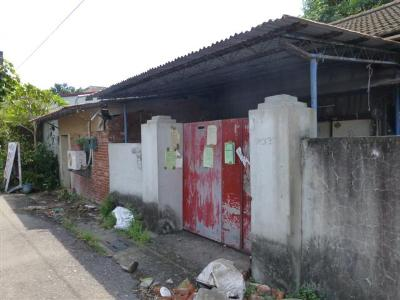plastic_bag: (192, 257, 246, 300), (111, 205, 137, 233)
